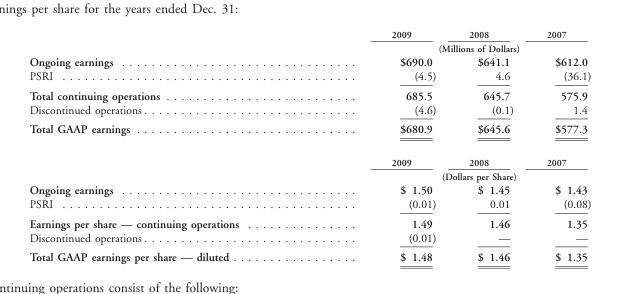table: (28, 29, 590, 263)
table column: (28, 29, 314, 263), (314, 29, 451, 263), (451, 29, 529, 263), (529, 29, 590, 263)
table column header: (28, 29, 590, 54)
table row: (28, 119, 590, 146), (28, 146, 590, 169), (28, 68, 590, 85), (28, 85, 590, 102), (28, 102, 590, 119), (28, 196, 590, 213), (28, 213, 590, 230), (28, 230, 590, 247), (28, 247, 590, 263), (28, 54, 590, 68), (28, 182, 590, 196), (28, 41, 590, 54), (28, 169, 590, 182), (28, 29, 590, 41)
table spanning cell: (314, 41, 590, 54), (314, 169, 590, 182)
